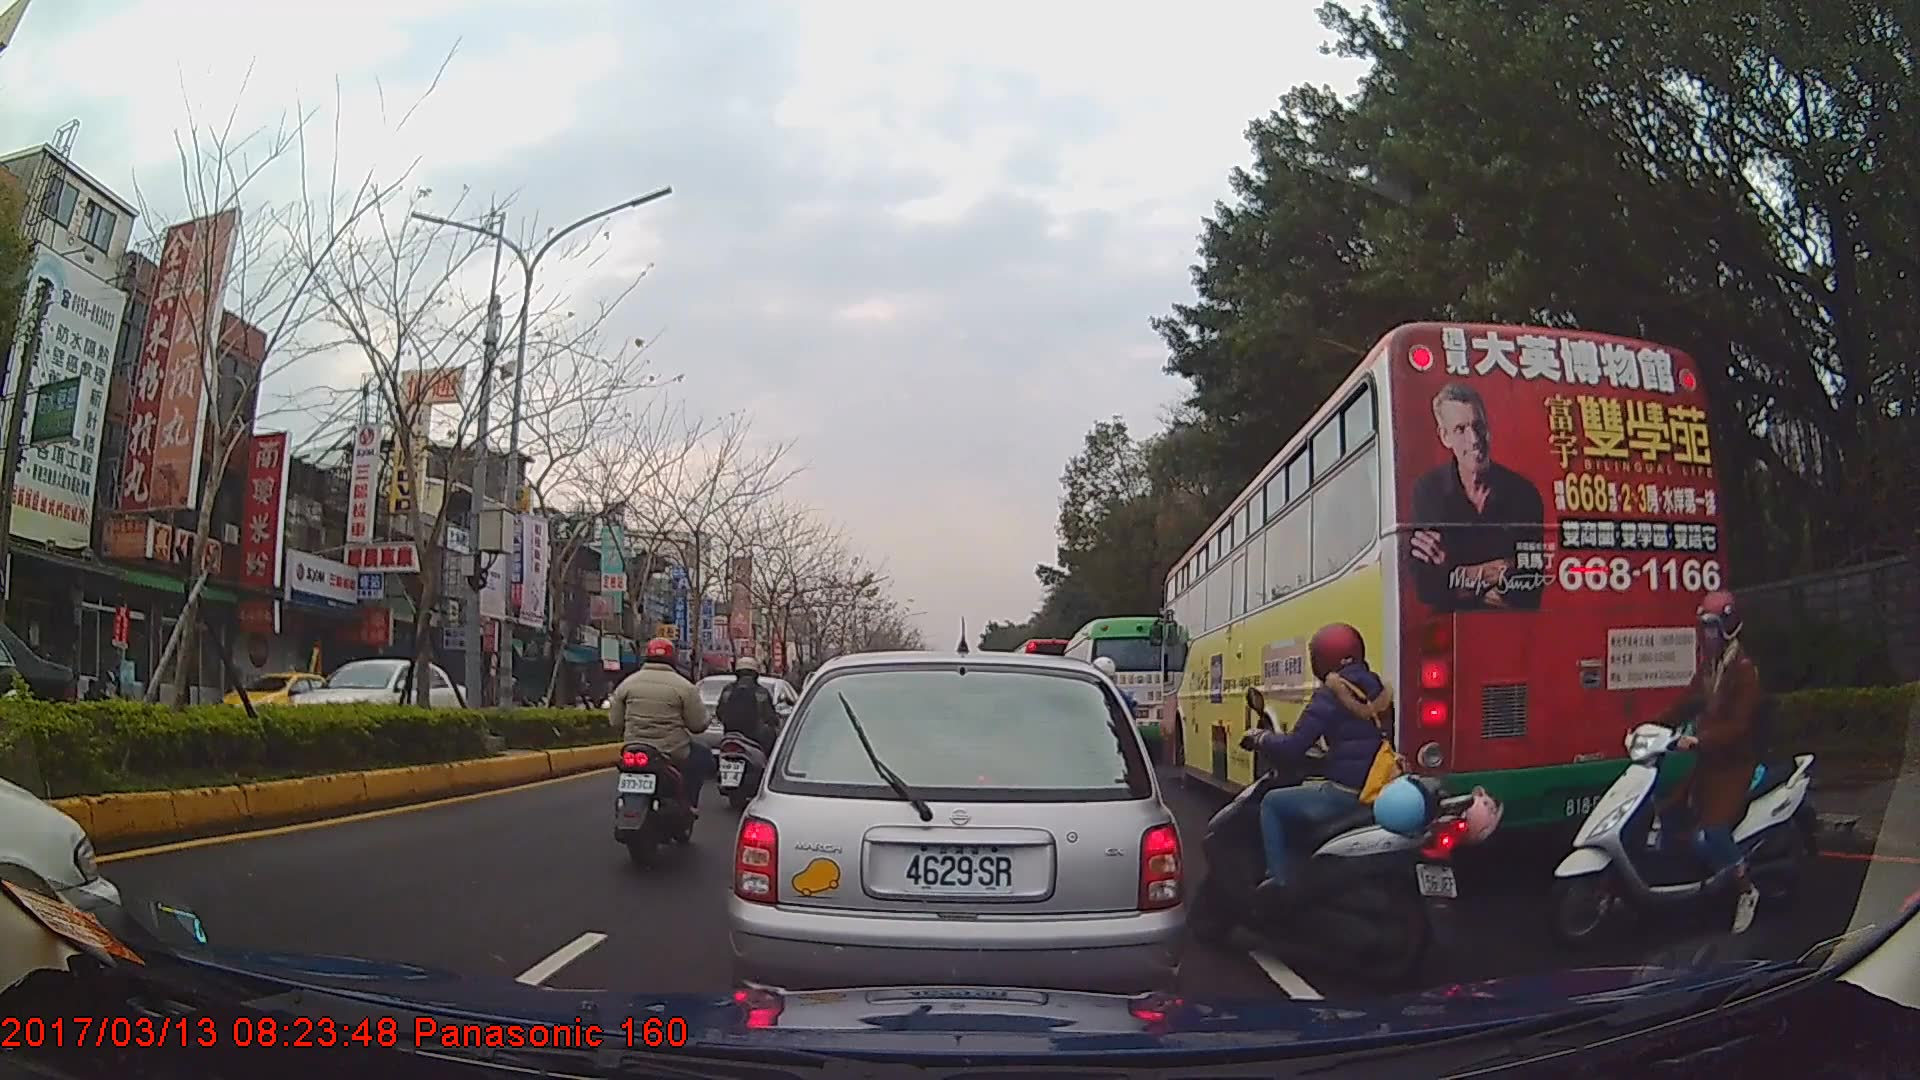rider: (1201, 618, 1496, 980), (1547, 588, 1818, 950), (607, 637, 712, 868), (713, 654, 779, 789)
vehicle: (1160, 319, 1728, 847), (730, 650, 1183, 1010), (1058, 615, 1182, 766), (289, 655, 468, 740), (0, 611, 76, 767), (216, 663, 357, 728)
